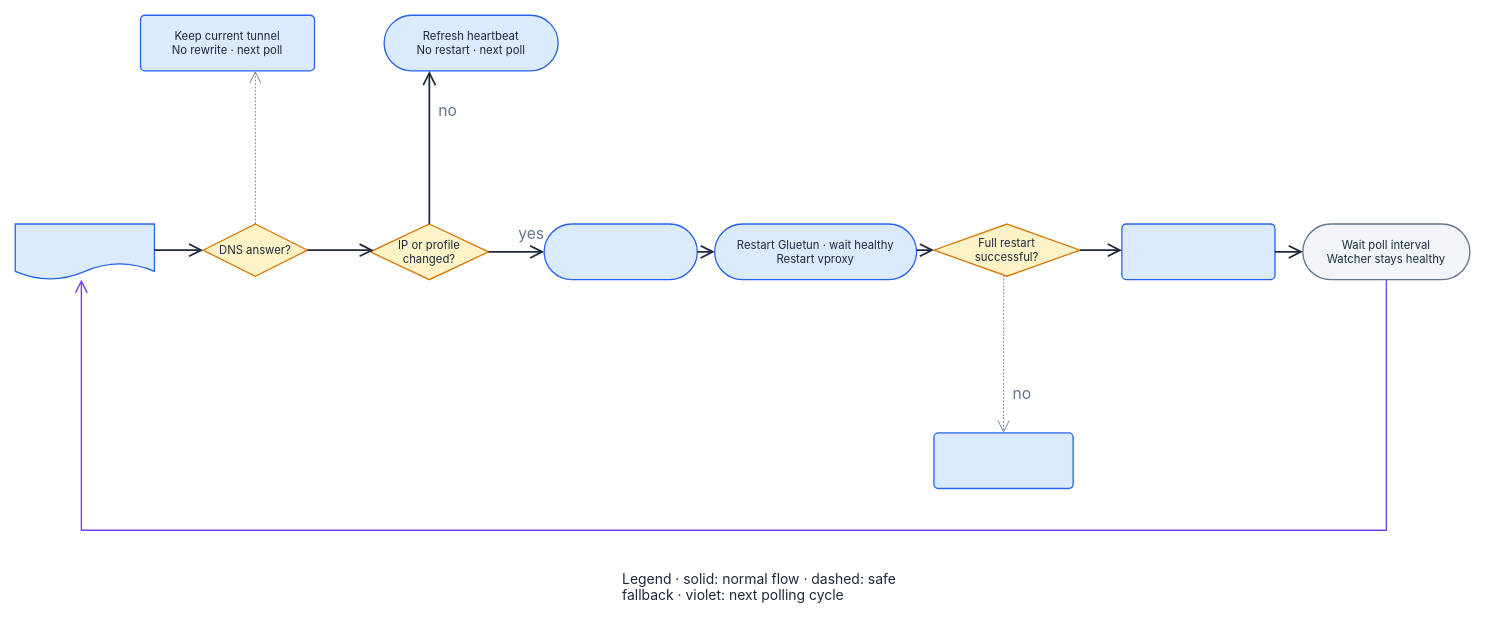
Some shapes in this 1486 by 619 pixel diagram are drawn without their labels. Each missing label, with the centre of its shape:
"Commit new IP/hash Namespace rejoined" goes at pixel 1198 251.
"Poll DDNS and profile hash" goes at pixel 84 251.
"Render new profile Atomic rename" goes at pixel 620 251.
"Retain old state Retry next poll" goes at pixel 1003 460.
